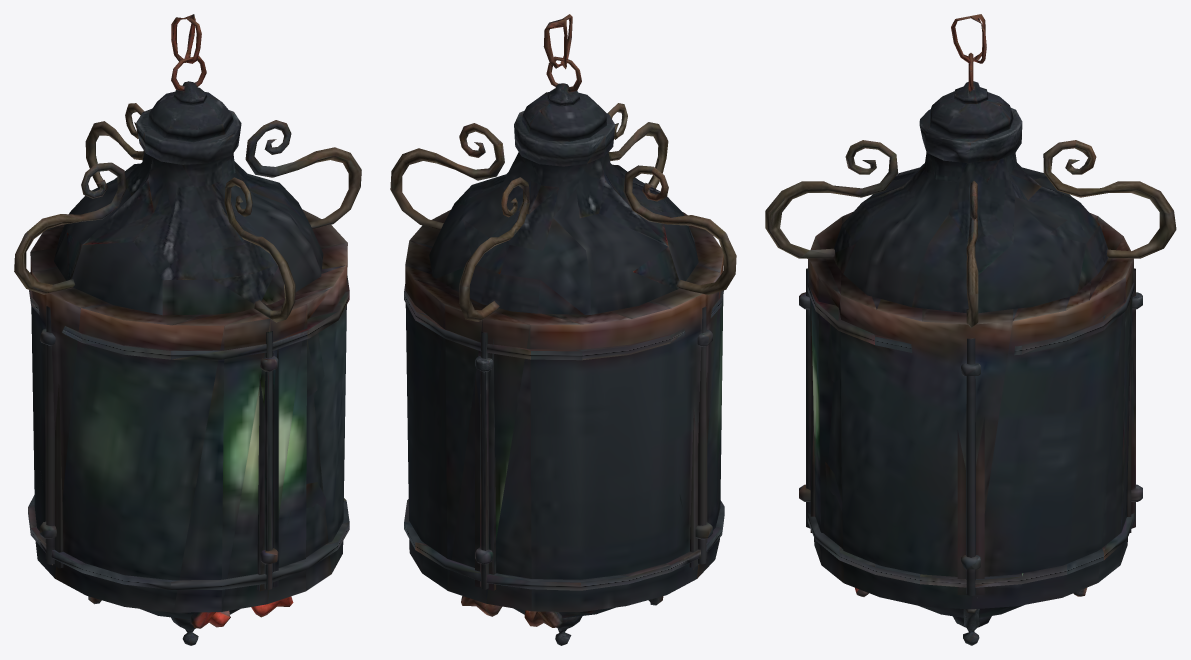
File: fener.glb
3 views of the same model, side by side, from view 1: azimuth 30°, elevation 25°; view 2: azimuth 150°, elevation 25°; view 3: azimuth 270°, elevation 25° (orthographic).
Bounding box in the file's own units: 0.5483 × 0.9512 × 0.564.
1 material, 1 textured.
